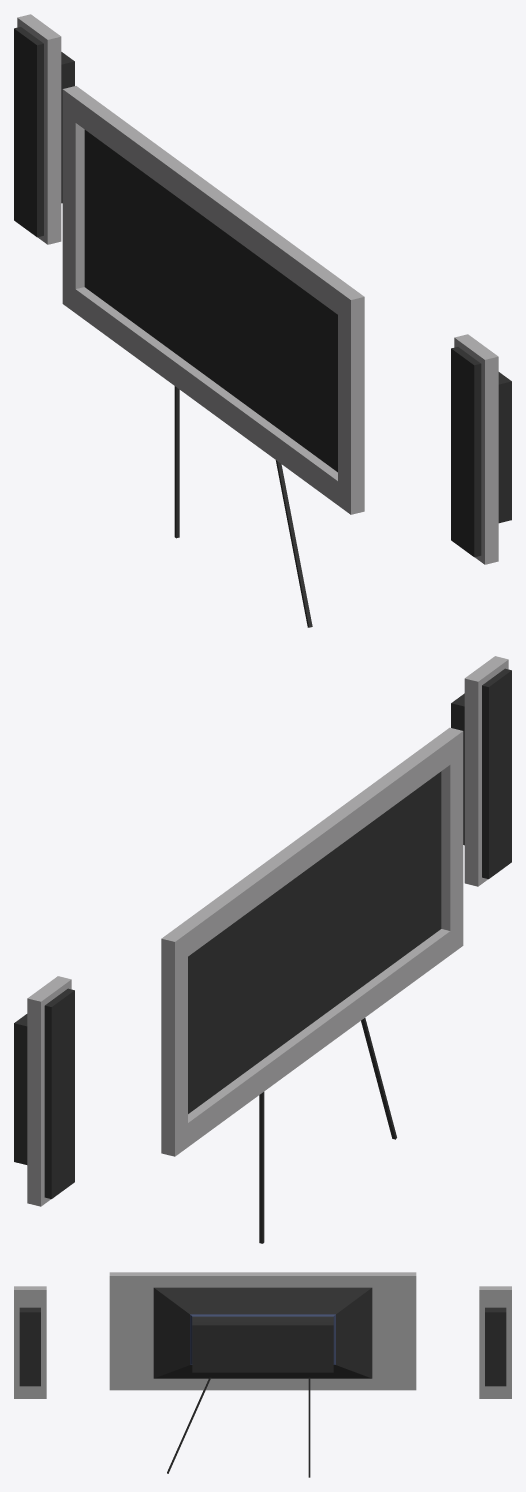
The model's file is Television_Set.fbx.
The picture shows the model from 3 angles, top to bottom: view 1: azimuth 30°, elevation 25°; view 2: azimuth 150°, elevation 25°; view 3: azimuth 270°, elevation 25°; orthographic projection. The views are drawn at different scales.
Visible parts, largest first — view 1: TV_Set; view 2: TV_Set; view 3: TV_Set.
Boxes of the visible parts, left/top/right/bottom form: TV_Set: left=14, top=14, right=511, bottom=627; TV_Set: left=14, top=656, right=511, bottom=1243; TV_Set: left=14, top=1272, right=511, bottom=1477.
Bounding box in the file's own units: 39.77 × 188 × 421.
